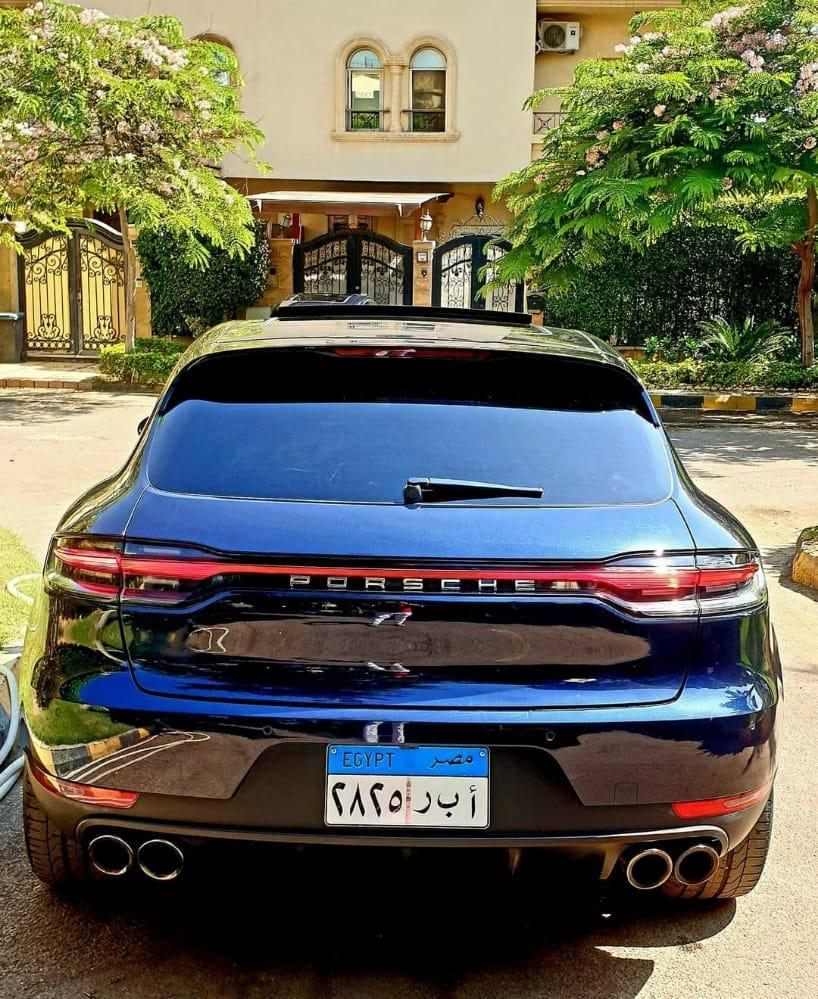porsche: (264, 558, 553, 603)
